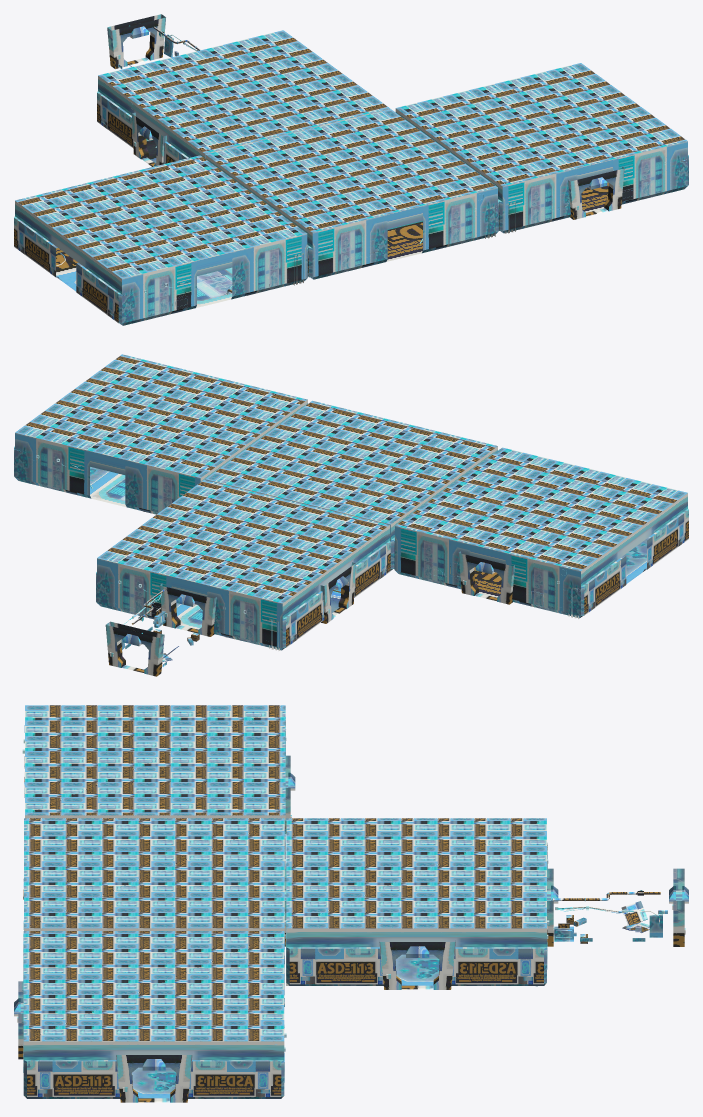
File: Combined_Mesh_root_scene__10_7ad9d44b__ZombiesII_laboratory_10_a_1fa57b93_c1f257_part002.obj
3 renders of one model, top to bottom at view 1: azimuth 30°, elevation 25°; view 2: azimuth 150°, elevation 25°; view 3: azimuth 270°, elevation 25°, orthographic. The views are drawn at different scales.
Size of the model in its own units: 124 by 10.21 by 104.
Materials: 261 (261 with a texture image).
